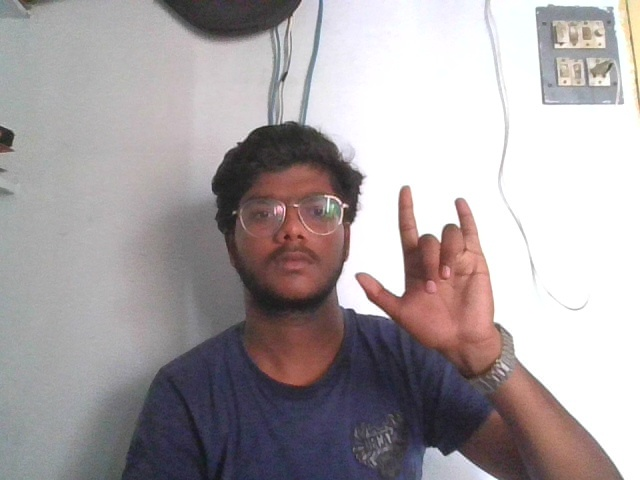IloveYou: (349, 180, 496, 347)
